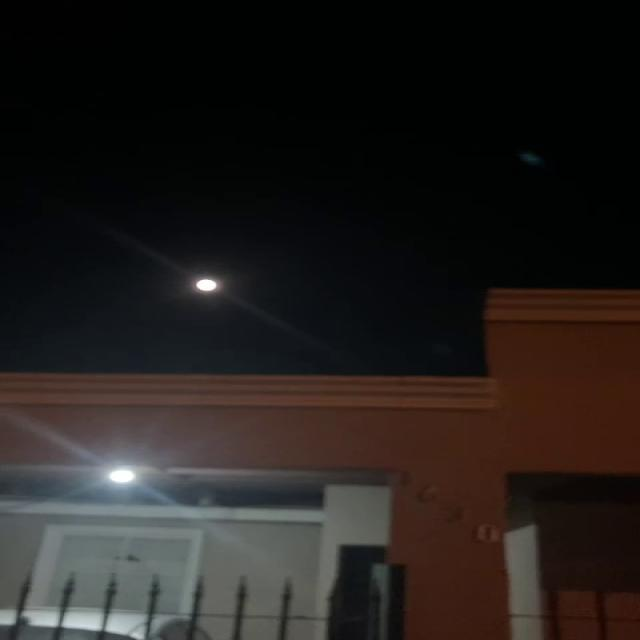moon: (194, 275, 223, 296)
